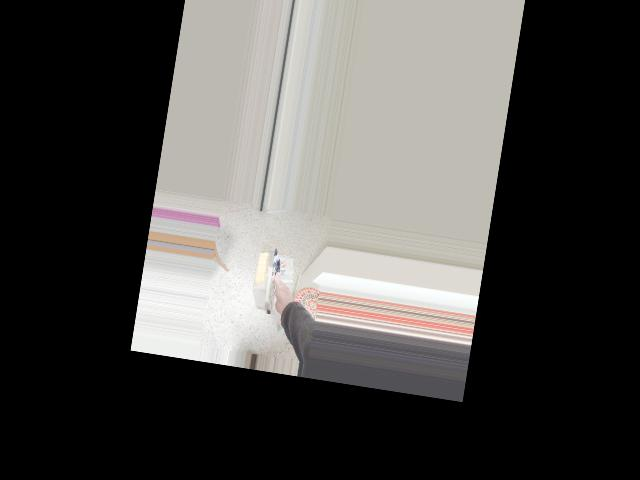cheese: (243, 246, 318, 323)
